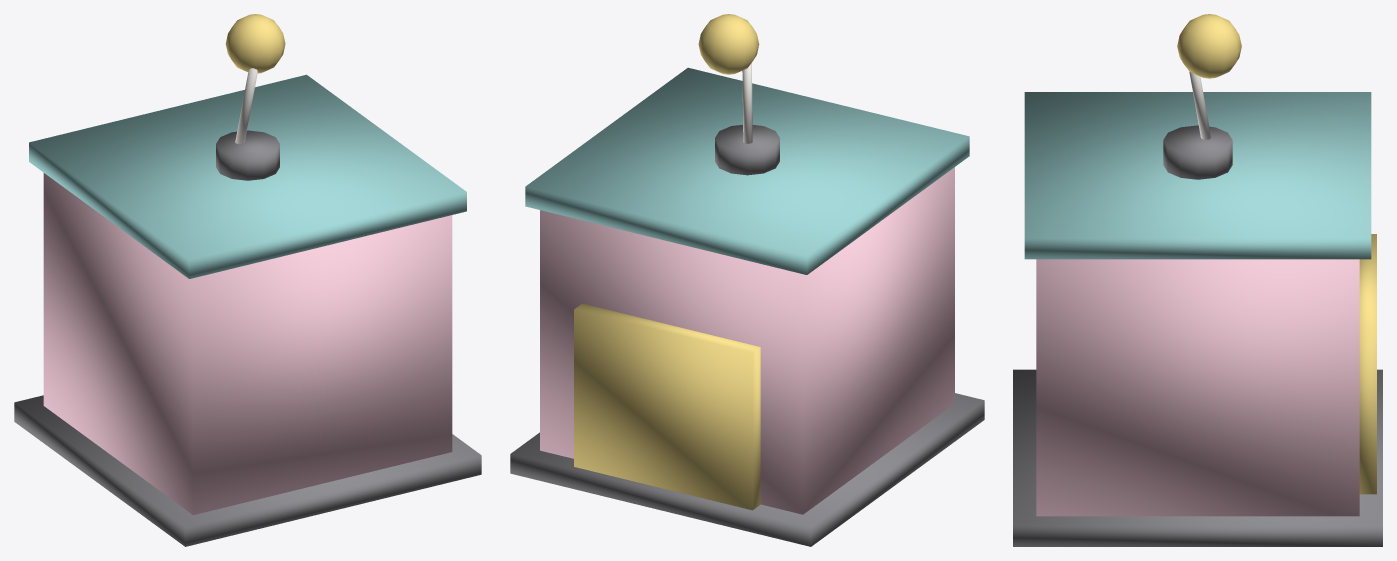
The model's file is arcade_center_lv3.glb.
3 views of the same model, side by side, from view 1: azimuth 30°, elevation 25°; view 2: azimuth 150°, elevation 25°; view 3: azimuth 270°, elevation 25° (orthographic). The views are drawn at different scales.
Visible parts, largest first — view 1: body, roof, floor, roof_joy_ball, roof_joy_base, roof_joy_shaft; view 2: body, roof, neon_arch1, floor, roof_joy_ball, roof_joy_base, roof_joy_shaft; view 3: body, roof, floor, neon_arch1, roof_joy_ball, roof_joy_base, roof_joy_shaft.
Part boxes in pixels (<box>): body: <box>43,173,452,515</box>; roof: <box>29,74,466,278</box>; floor: <box>14,395,481,546</box>; roof_joy_ball: <box>225,14,285,73</box>; roof_joy_base: <box>216,130,279,180</box>; roof_joy_shaft: <box>235,68,257,144</box>; body: <box>540,167,954,514</box>; roof: <box>525,67,969,274</box>; neon_arch1: <box>574,303,760,510</box>; floor: <box>510,393,984,546</box>; roof_joy_ball: <box>698,14,759,74</box>; roof_joy_base: <box>715,124,779,175</box>; roof_joy_shaft: <box>742,63,752,143</box>; body: <box>1036,259,1359,516</box>; roof: <box>1024,92,1371,259</box>; floor: <box>1013,369,1382,546</box>; neon_arch1: <box>1359,234,1376,494</box>; roof_joy_ball: <box>1177,14,1241,78</box>; roof_joy_base: <box>1163,125,1232,179</box>; roof_joy_shaft: <box>1189,72,1211,139</box>.
Size of the model in its own units: 1.6 by 2.19 by 1.6.
